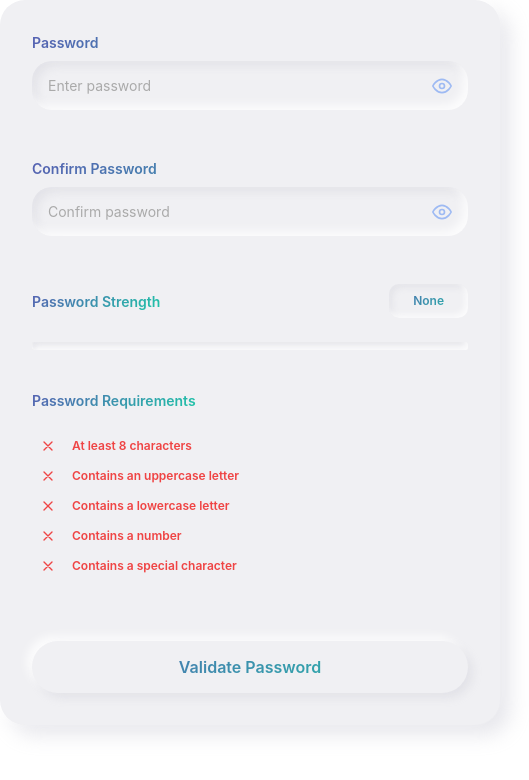
Test: PasswordValidator Component › should show error when passwords don't match
This screenshot has width=529, height=780.
Type "Test1@" into the password field with test id "password-input" at [250, 86], box [32,61,468,110]
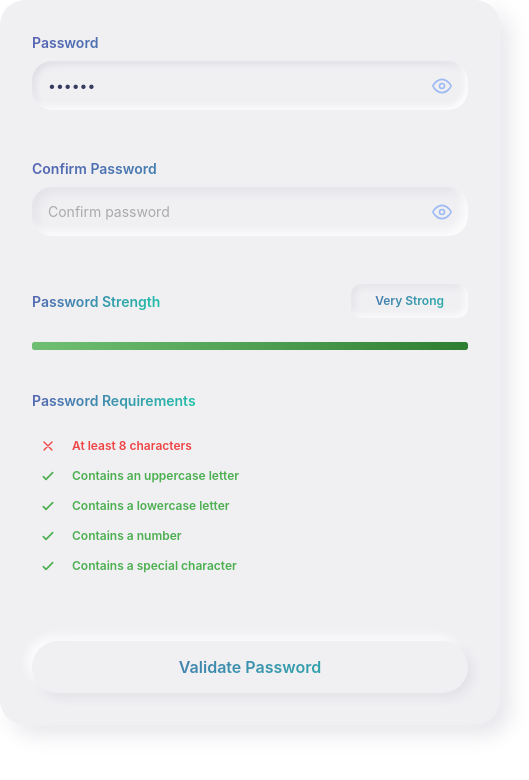
Type "Test2@" into the password field with test id "confirm-password-input" at [250, 212], box [32,187,468,236]
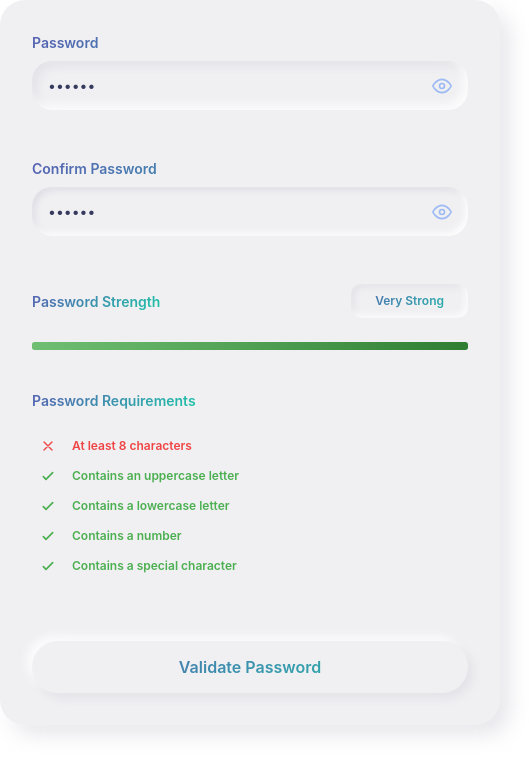
Click the button "Validate Password" at [250, 667], box [32,641,468,693]
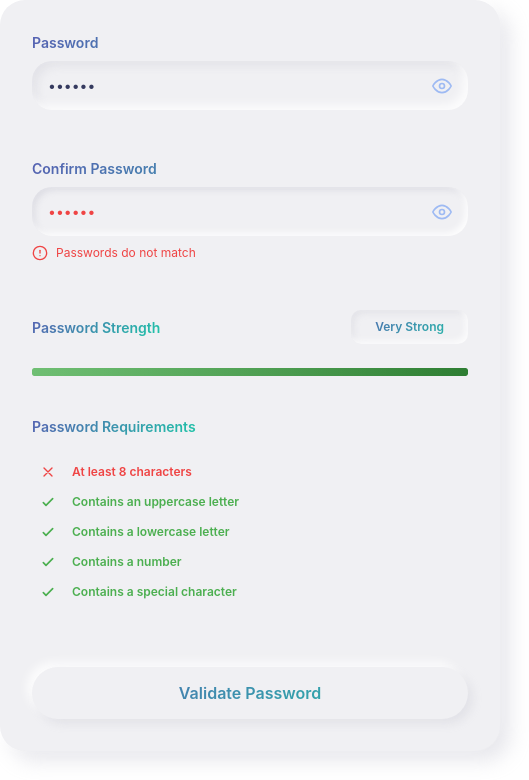
Check: the text "Passwords do not match" is shown, box [32,245,196,261]
